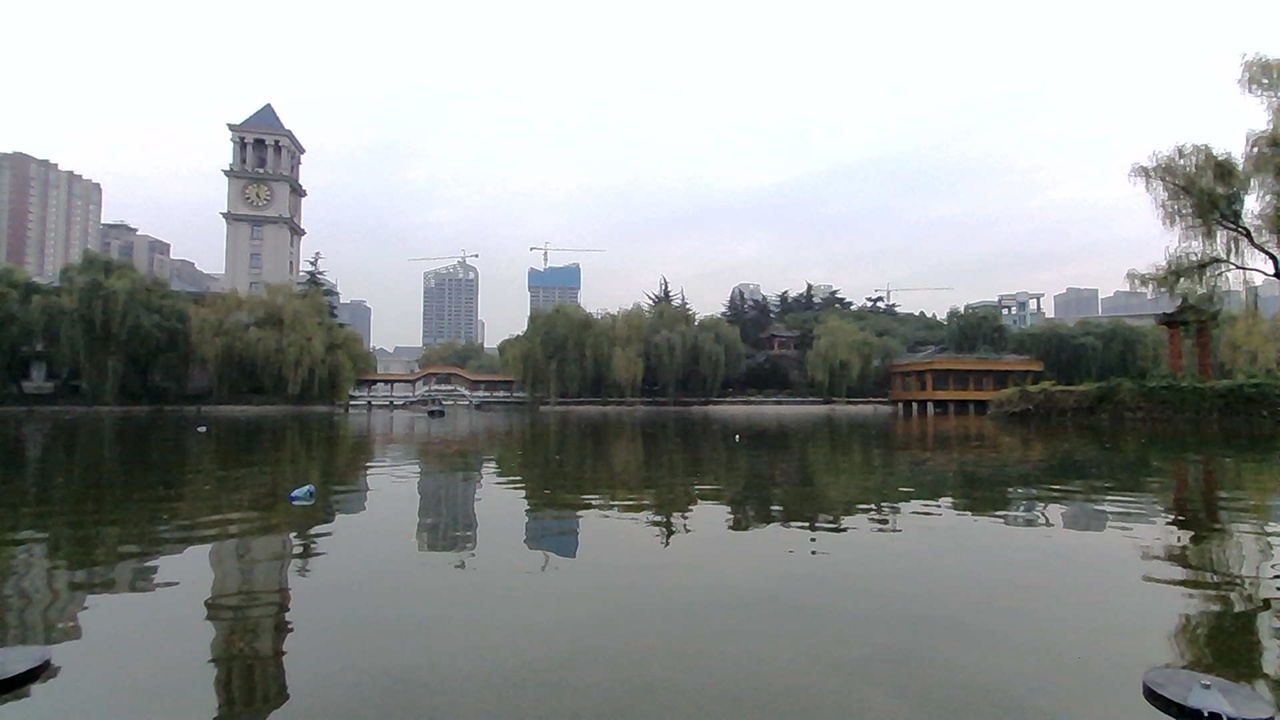bottle: (726, 425, 764, 450), (284, 484, 323, 508), (183, 414, 222, 437)
